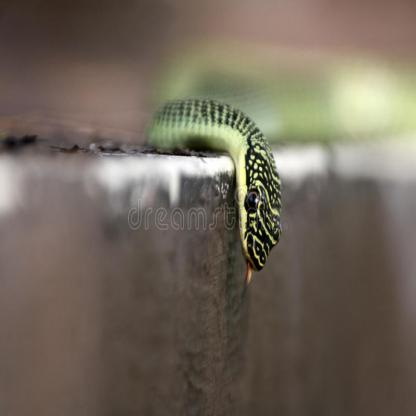Snake: (150, 90, 286, 281)
